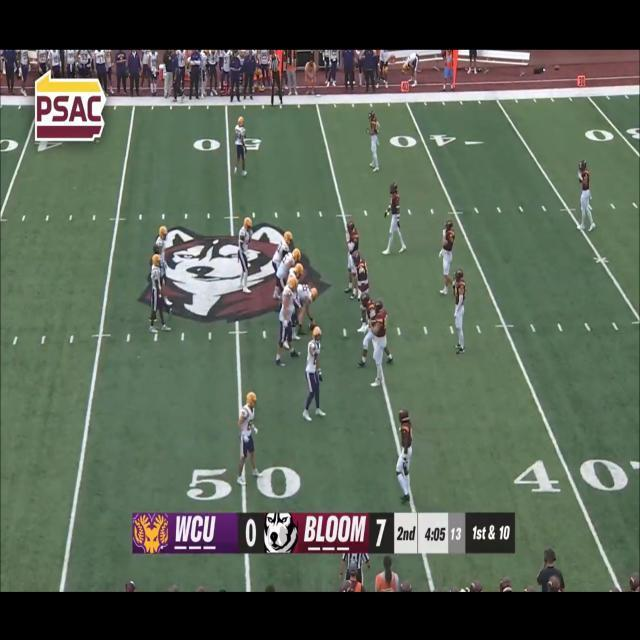football: (306, 318, 320, 332)
